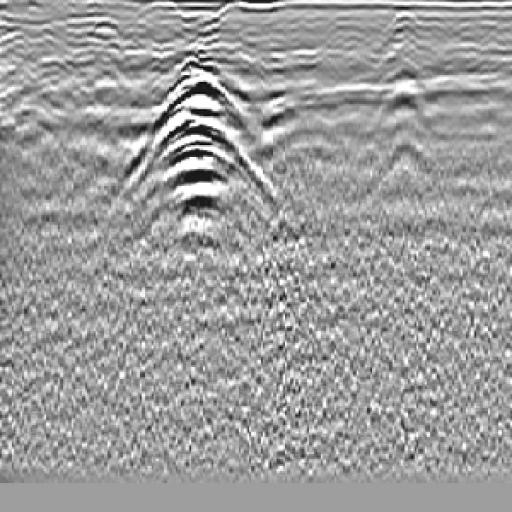metalic: (118, 54, 273, 243)
